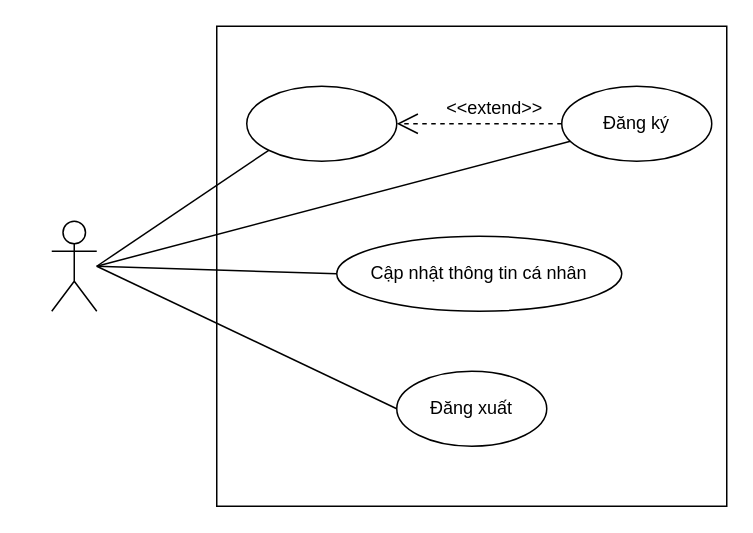
The diagram is 753 pixels wide and 533 high, and some of its shapes have lost their labels. Here are the shapes that lost their labels. From the top down, the box of each, then its label:
(245, 85, 397, 161): Đăng nhập
(50, 220, 97, 311): Người dùng
